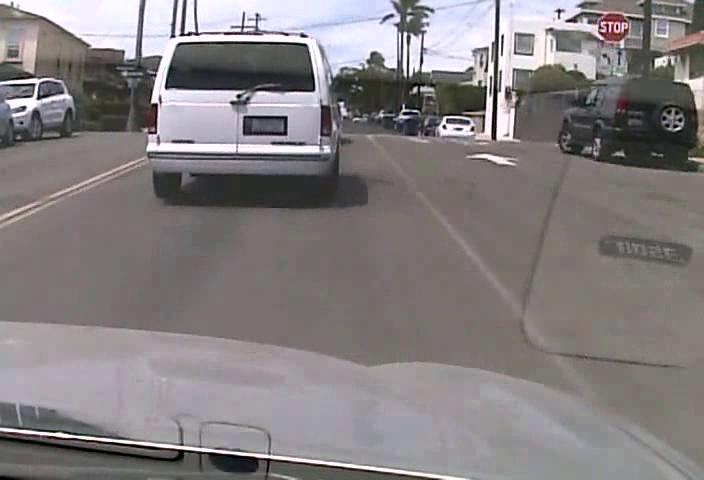stop: (597, 11, 630, 43)
